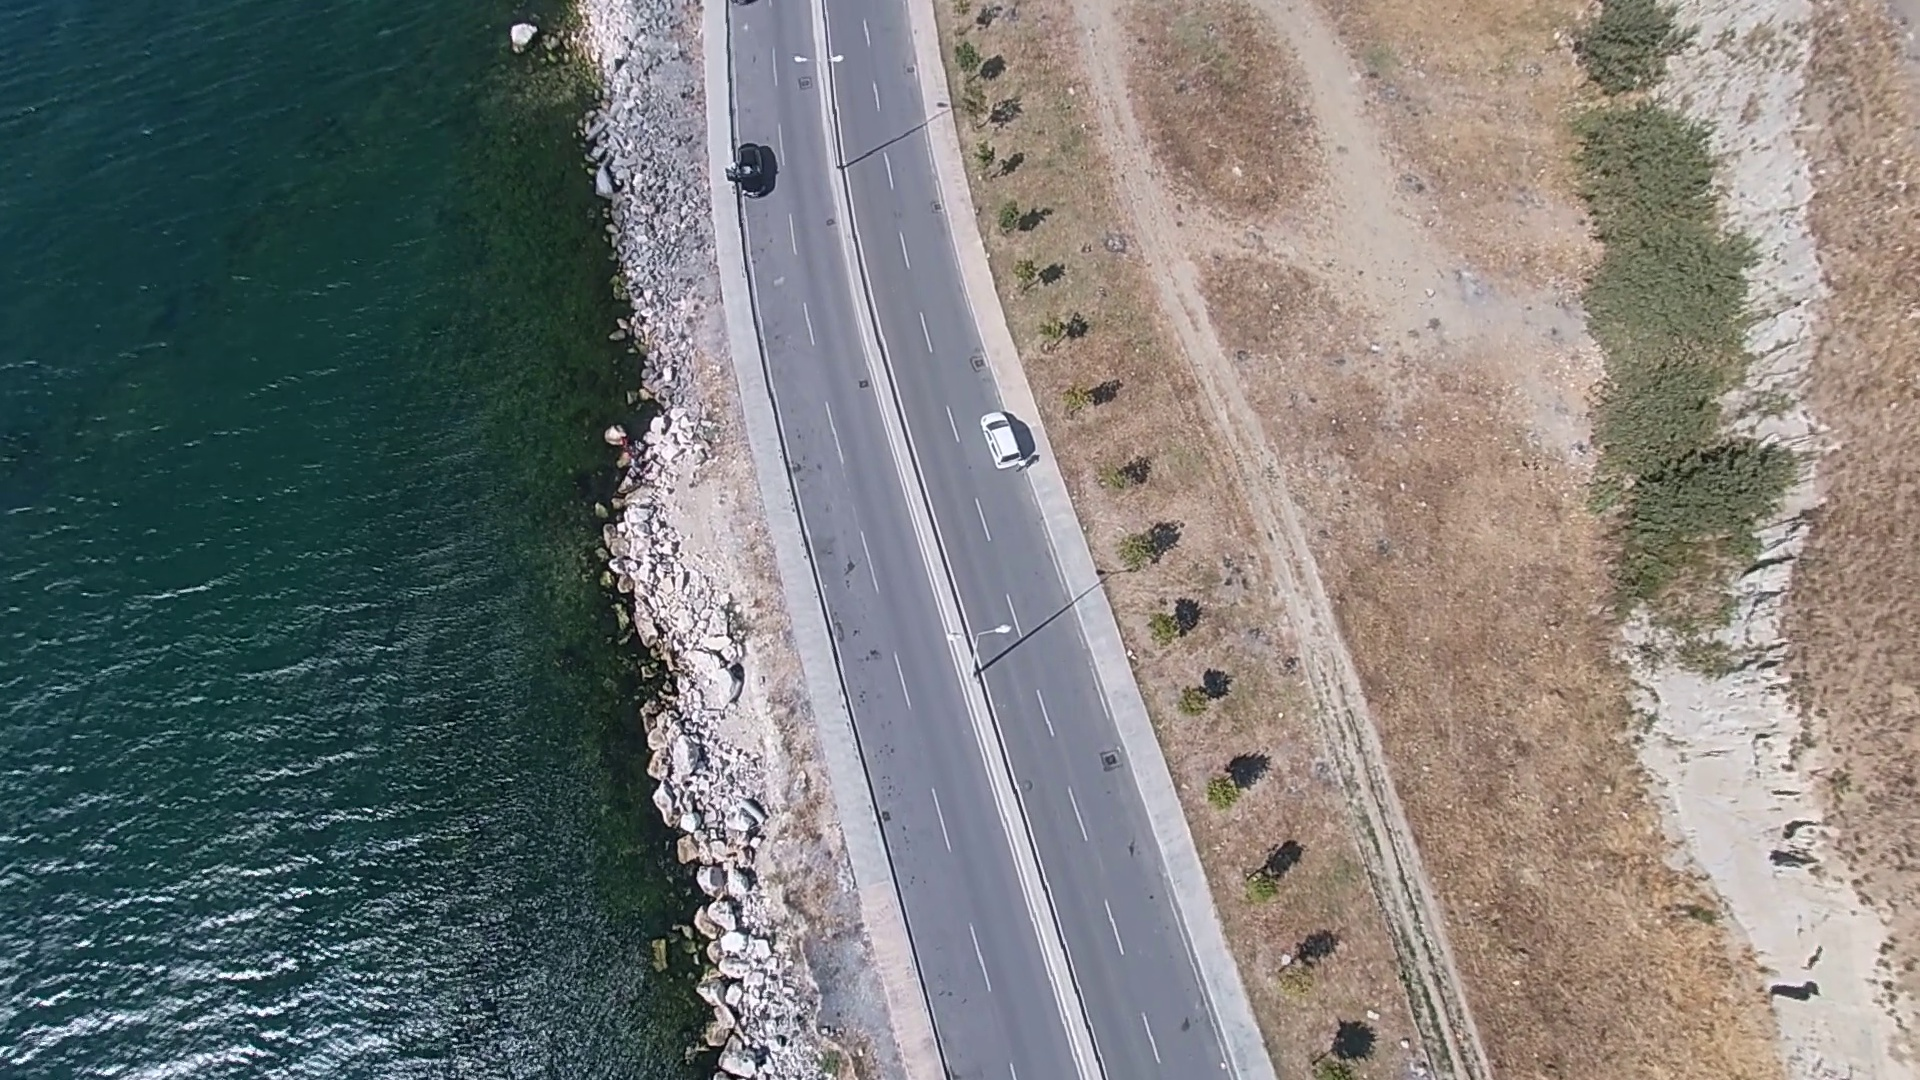araba: (973, 404, 1025, 473), (735, 140, 766, 198)
